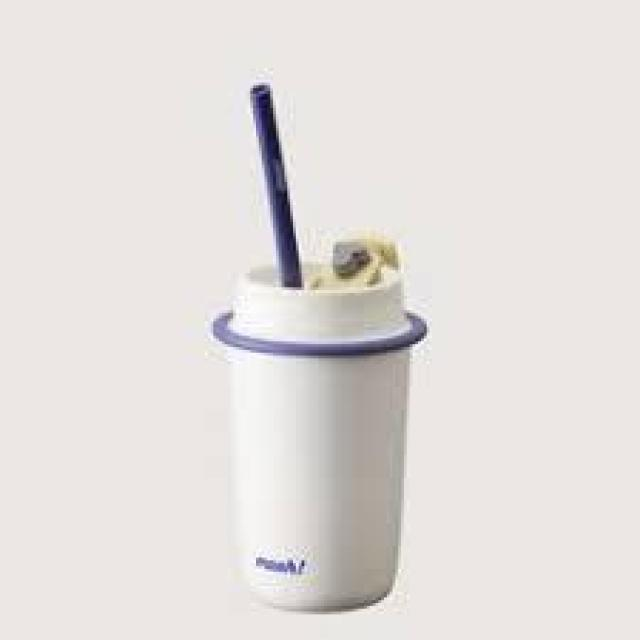bottle: (175, 76, 459, 624)
